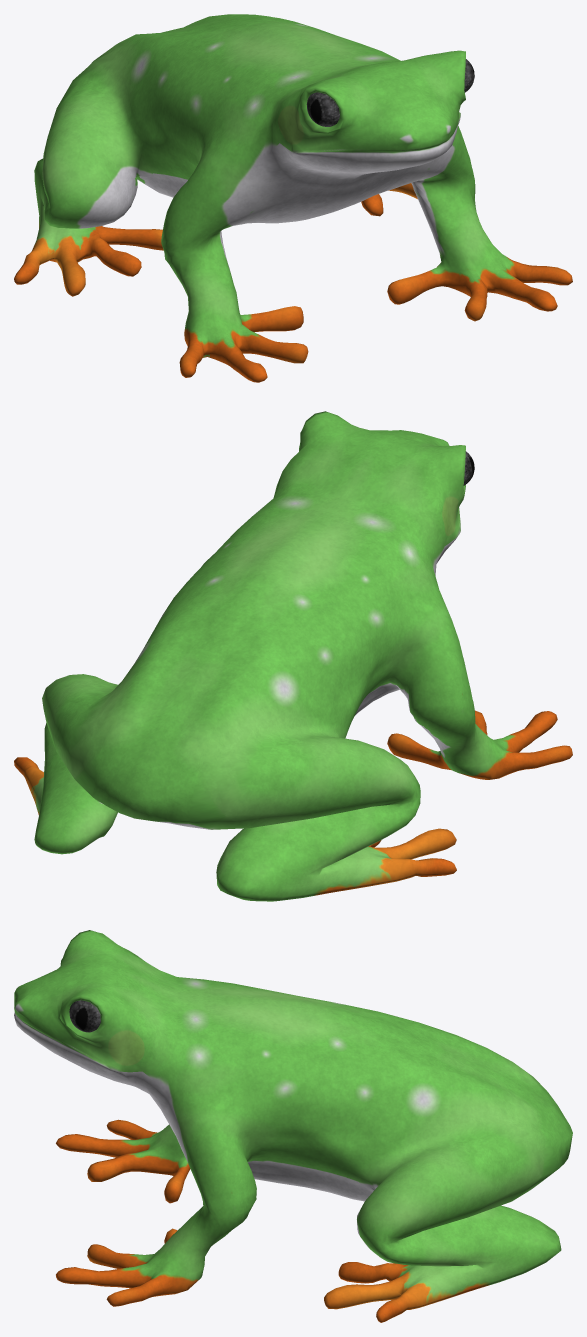
The model's file is Ranita Verduzca.glb.
3 views of the same model, one above another, from view 1: azimuth 30°, elevation 25°; view 2: azimuth 150°, elevation 25°; view 3: azimuth 270°, elevation 25° (orthographic). The views are drawn at different scales.
Parts seen in each view (by area): view 1: Ranita Verduzca; view 2: Ranita Verduzca; view 3: Ranita Verduzca.
Part boxes in pixels (x1,y1,x2,y2): Ranita Verduzca: [14, 14, 572, 382]; Ranita Verduzca: [14, 411, 572, 901]; Ranita Verduzca: [14, 930, 572, 1322].
Bounding box in the file's own units: 2.95 × 1.79 × 3.44.
Materials: 1 (1 with a texture image).
